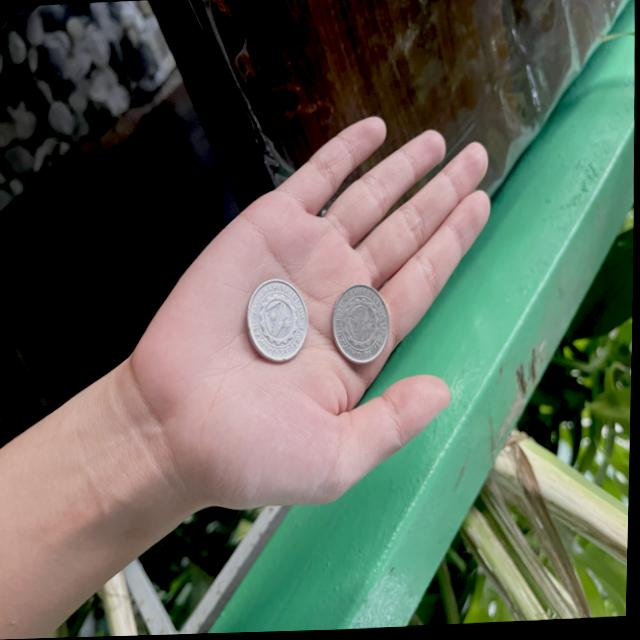1_Old_Back: (252, 282, 306, 358), (337, 290, 389, 358)
